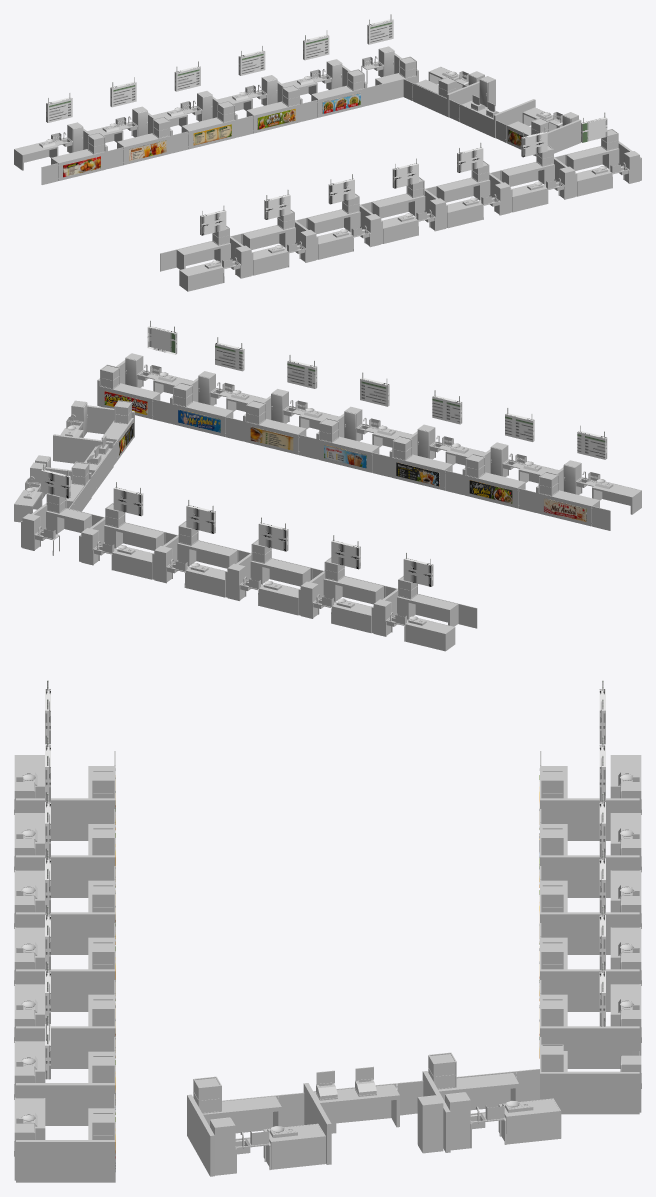
File: Kantin.fbx
3 views of the same model, one above another, from view 1: azimuth 30°, elevation 25°; view 2: azimuth 150°, elevation 25°; view 3: azimuth 270°, elevation 25° (orthographic). The views are drawn at different scales.
Parts seen in each view (by area): view 1: Cube.297, Cube.304, Cube.317, Cube.299, Cylinder.017, Cube.312, Plane.070, Cube.307, Cylinder.016, Plane.220, Cube.300, Cube.308 (+1 smaller); view 2: Cube.297, Cube.304, Cube.317, Cube.299, Cylinder.017, Cube.312, Plane.070, Plane.220, Cube.307, Cylinder.016, Cube.300, Cube.308 (+1 smaller); view 3: Cube.312, Cube.304, Cube.297, Cube.299, Plane.070, Cylinder.017, Cube.317, Cube.300, Cube.307, Cube.308, Plane.055, Cube.316.
Boxes of the visible parts, x1,y1,x2,y2 form: Cube.297: [51, 73, 619, 269]; Cube.304: [14, 66, 612, 291]; Cube.317: [41, 76, 600, 271]; Cube.299: [67, 46, 639, 278]; Cylinder.017: [46, 14, 607, 235]; Cube.312: [83, 53, 641, 275]; Plane.070: [88, 57, 617, 244]; Cube.307: [51, 56, 629, 282]; Cylinder.016: [48, 20, 393, 122]; Plane.220: [63, 93, 523, 177]; Cube.300: [87, 56, 618, 245]; Cube.308: [39, 71, 607, 268]; Cube.297: [46, 383, 599, 626]; Cube.304: [14, 375, 641, 651]; Cube.317: [66, 386, 610, 628]; Cube.299: [22, 353, 581, 636]; Cylinder.017: [41, 320, 607, 586]; Cube.312: [21, 360, 563, 633]; Plane.070: [47, 365, 557, 598]; Plane.220: [104, 391, 586, 522]; Cube.307: [25, 364, 600, 641]; Cylinder.016: [215, 343, 605, 459]; Cube.300: [46, 364, 558, 599]; Cube.308: [23, 375, 613, 625]; Cube.312: [16, 798, 639, 1182]; Cube.304: [14, 755, 641, 1169]; Cube.297: [88, 766, 567, 1139]; Cube.299: [14, 782, 641, 1180]; Plane.070: [93, 772, 562, 1139]; Cylinder.017: [45, 680, 605, 1079]; Cube.317: [114, 751, 541, 1139]; Cube.300: [92, 770, 563, 1139]; Cube.307: [14, 777, 641, 1173]; Cube.308: [23, 772, 632, 1137]; Plane.055: [21, 774, 634, 1132]; Cube.316: [316, 1066, 376, 1100].
Bounding box in the file's own units: 143 × 20.62 × 94.88.
